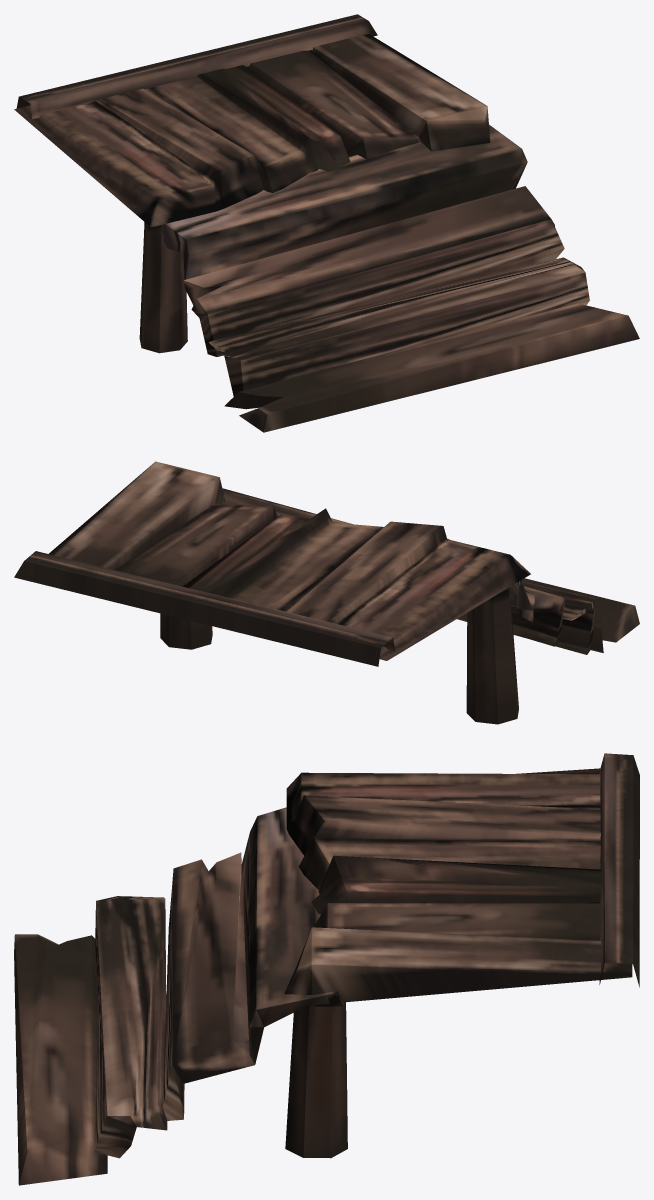
Rendered from STR_HouseExit.FBX.
3 views of the same model, one above another, from view 1: azimuth 30°, elevation 25°; view 2: azimuth 150°, elevation 25°; view 3: azimuth 270°, elevation 25° (orthographic). The views are drawn at different scales.
Visible parts, largest first — view 1: STR_HouseExit; view 2: STR_HouseExit; view 3: STR_HouseExit.
Boxes of the visible parts, box(x1,y1,x2,y2) form: STR_HouseExit: box(14, 14, 639, 432); STR_HouseExit: box(14, 461, 639, 724); STR_HouseExit: box(14, 753, 639, 1185).
Bounding box in the file's own units: 286 × 117 × 321.
